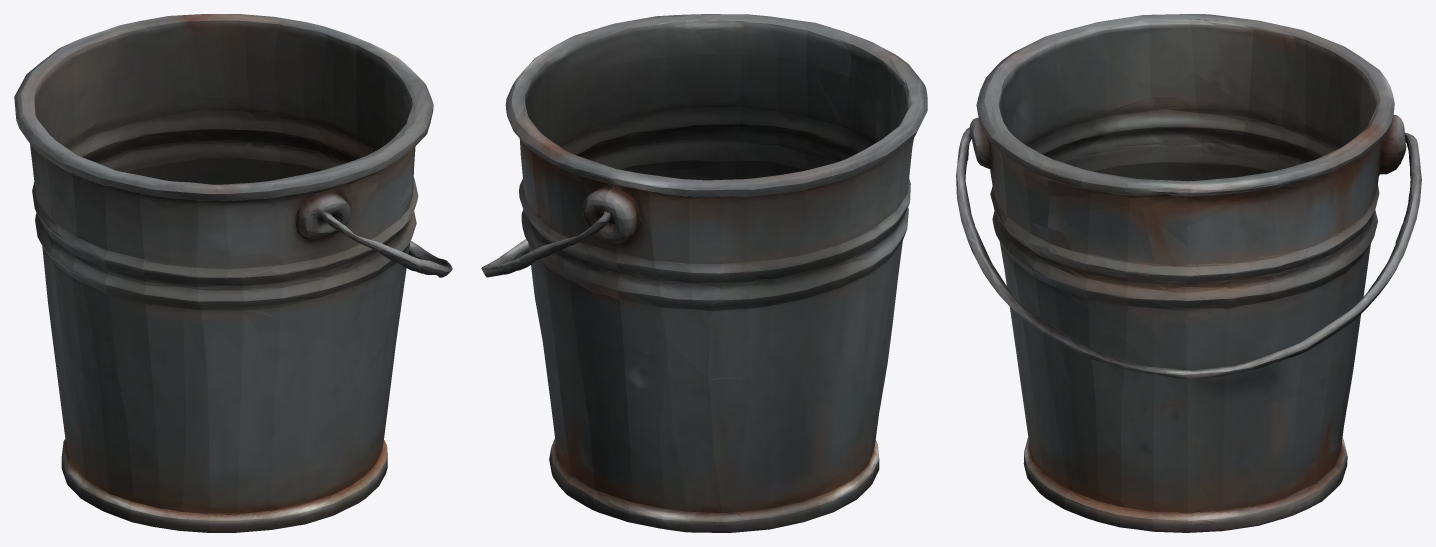
The model's file is bucket.glb.
The picture shows the model from 3 angles, left to right: view 1: azimuth 30°, elevation 25°; view 2: azimuth 150°, elevation 25°; view 3: azimuth 270°, elevation 25°; orthographic projection.
Parts seen in each view (by area): view 1: geometry_0; view 2: geometry_0; view 3: geometry_0.
Part boxes in pixels (<box>): geometry_0: <box>14,14,452,532</box>; geometry_0: <box>481,14,927,532</box>; geometry_0: <box>956,14,1421,532</box>.
Bounding box in the file's own units: 0.6444 × 0.6105 × 0.7075.
1 material, 1 textured.
